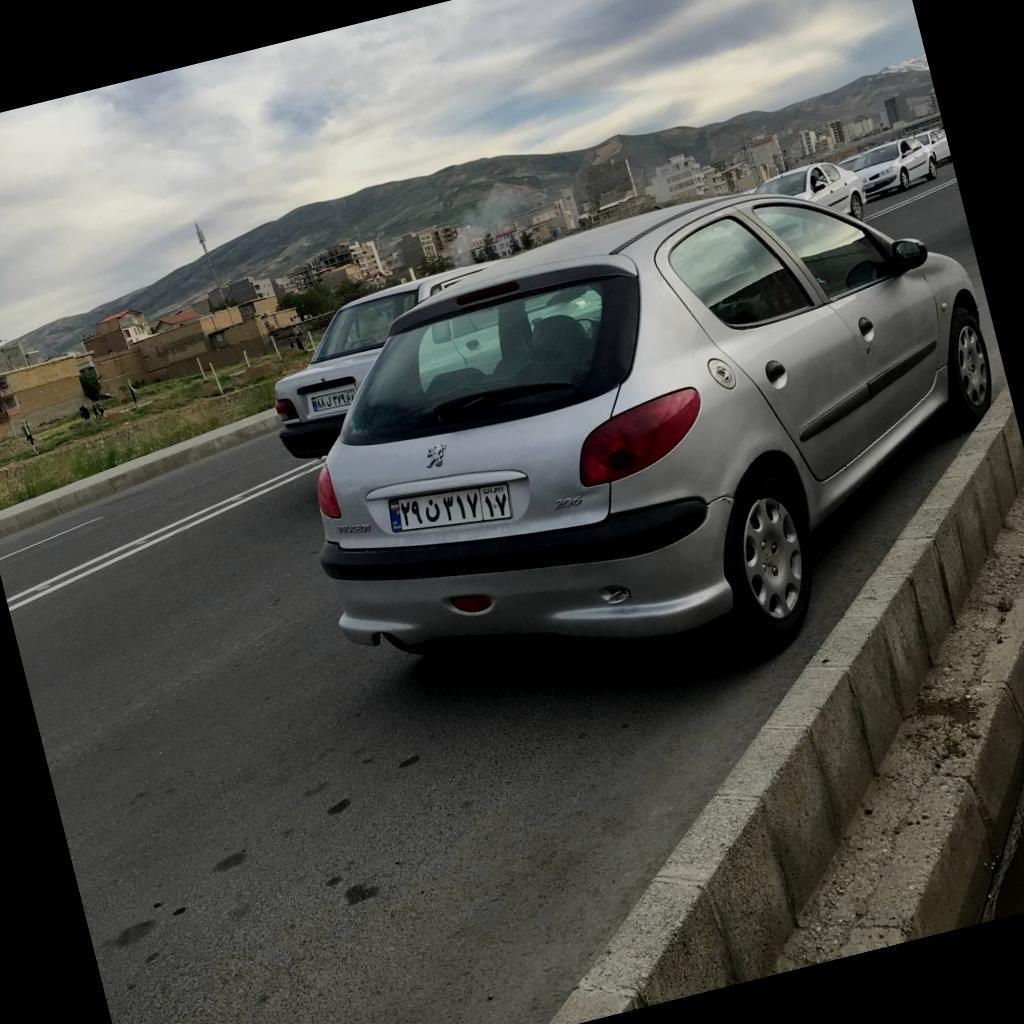Plates: (387, 482, 511, 532)
